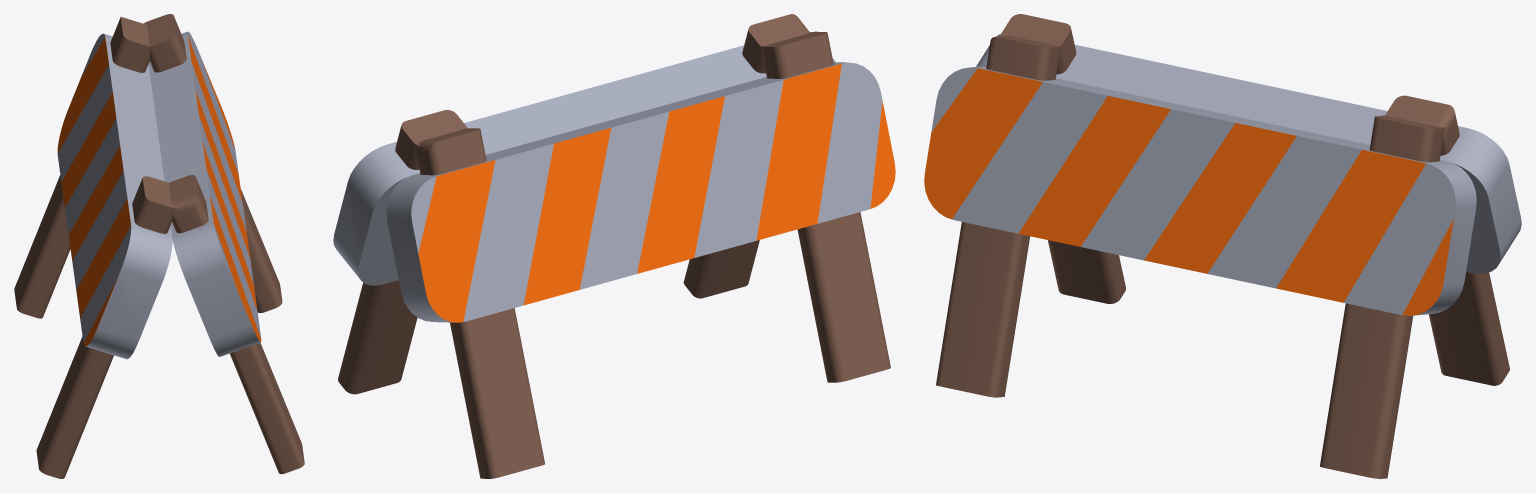
File: sign1.fbx
The picture shows the model from 3 angles, left to right: view 1: azimuth 30°, elevation 25°; view 2: azimuth 150°, elevation 25°; view 3: azimuth 270°, elevation 25°; orthographic projection. The views are drawn at different scales.
Parts seen in each view (by area): view 1: Cube.055; view 2: Cube.055; view 3: Cube.055.
Part boxes in pixels (x1=…): Cube.055: x1=14, y1=14, x2=304, y2=478; Cube.055: x1=333, y1=14, x2=895, y2=478; Cube.055: x1=924, y1=14, x2=1521, y2=478.
Size of the model in its own units: 1082 by 776 by 1336.
1 material, 1 textured.
